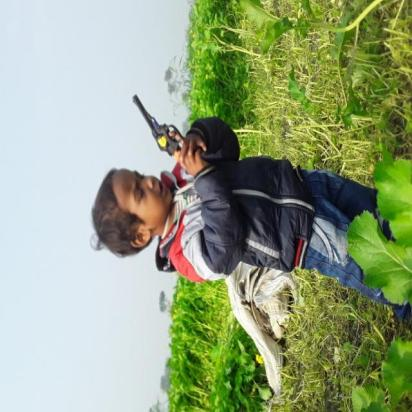Gun: (130, 90, 207, 173)
